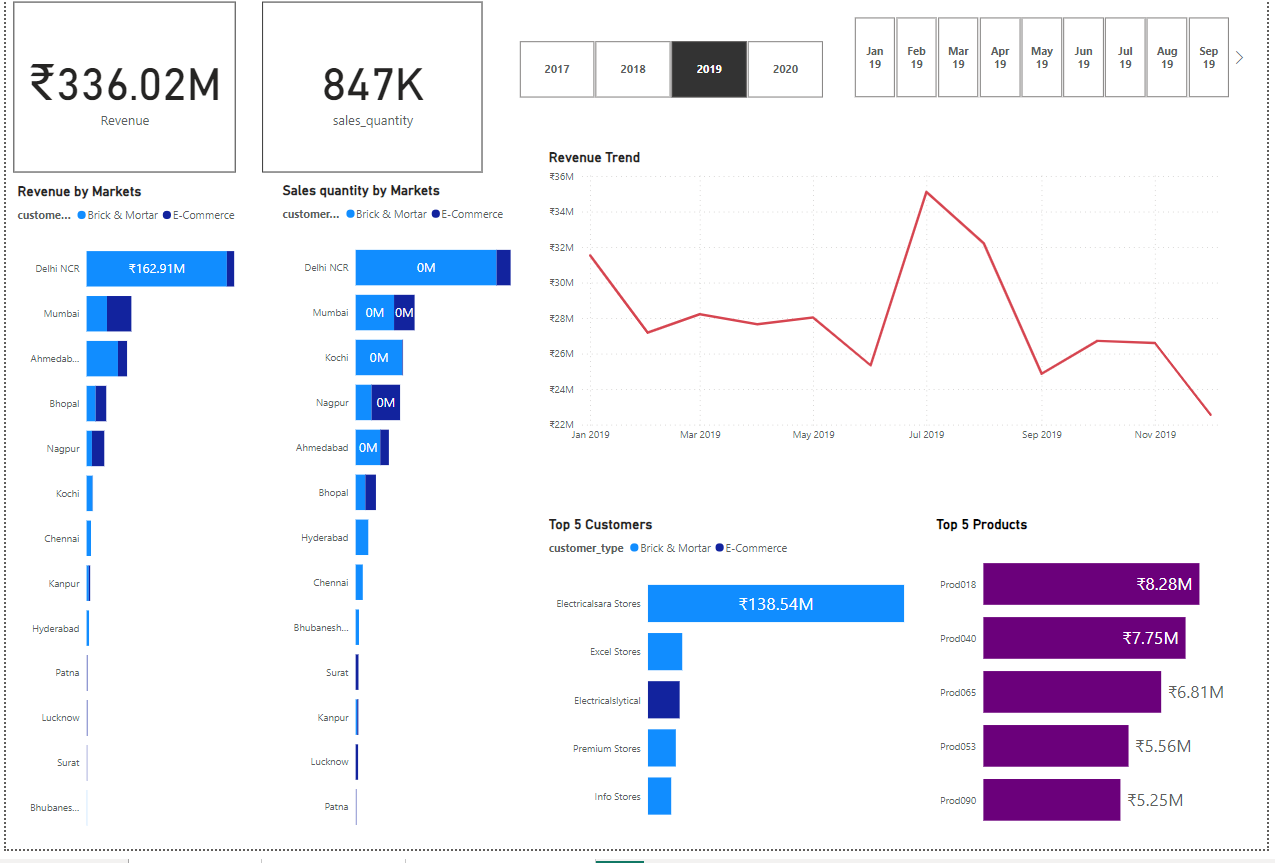

Layout of this report page (visuals, bound fields, positions):
{"tool":"powerbi","page":{"name":"Key Insights","canvas":[1550,1052],"ordinal":0},"visuals":[{"type":"card","fields":{"Values":["BaseMeasures.Revenue"]},"box":[8.7,10.5,272.5,209.7],"z":0},{"type":"card","fields":{"Values":["BaseMeasures.sales_quantity"]},"box":[314.5,10.5,270.8,209.7],"z":1000},{"type":"barChart","title":"Revenue by Markets","fields":{"Y":["BaseMeasures.Revenue"],"Category":["sales markets.markets_name"],"Series":["sales customers.customer_type"]},"box":[9.2,233,306.6,817],"z":2000},{"type":"barChart","title":"Sales quantity by Markets","fields":{"Y":["BaseMeasures.sales_quantity"],"Category":["sales markets.markets_name"],"Series":["sales customers.customer_type"]},"box":[335.4,232.4,326.7,817.6],"z":3000},{"type":"slicer","fields":{"Values":["sales date.year"]},"box":[605.1,52.2,422.3,82.9],"z":4000},{"type":"slicer","fields":{"Values":["sales date.cy_date"]},"box":[1016.7,23,509.9,112.1],"z":5000},{"type":"barChart","title":"Top 5 Customers","fields":{"Y":["BaseMeasures.Revenue"],"Category":["sales customers.custmer_name"],"Series":["sales customers.customer_type"]},"box":[661.9,642,450,397.8],"z":6000},{"type":"barChart","title":"Top 5 Products","fields":{"Y":["BaseMeasures.Revenue"],"Category":["sales products.product_code"]},"box":[1138,642,388.5,408.5],"z":7000},{"type":"lineChart","title":"Revenue Trend","fields":{"Y":["BaseMeasures.Revenue"],"Category":["sales date.cy_date"]},"box":[661.9,192,849.3,368.6],"z":8000}]}

Visuals, with their boxes in screenshot pixels (x1, y1, x2, y2), scaled from the page's 1550x1052 canvas onto the 1275x863 screenshot:
card - BaseMeasures.Revenue: (7, 9, 231, 181)
card - BaseMeasures.sales_quantity: (259, 9, 481, 181)
"Revenue by Markets" barChart: (8, 191, 260, 861)
"Sales quantity by Markets" barChart: (276, 191, 545, 861)
slicer - sales date.year: (498, 43, 845, 111)
slicer - sales date.cy_date: (836, 19, 1256, 111)
"Top 5 Customers" barChart: (544, 527, 915, 853)
"Top 5 Products" barChart: (936, 527, 1256, 862)
"Revenue Trend" lineChart: (544, 158, 1243, 460)
